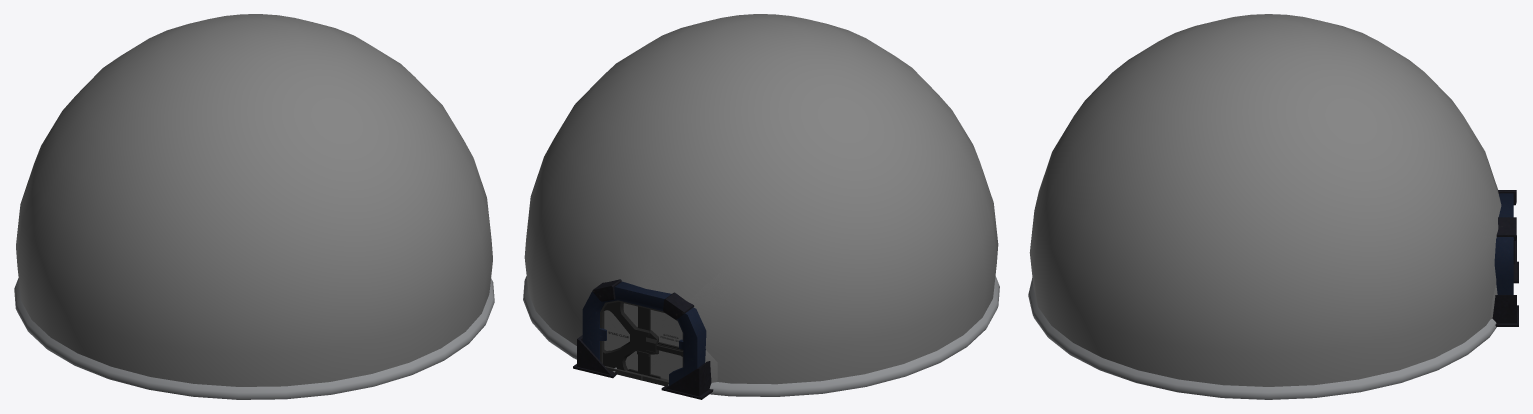
The model's file is DomeFinalMEsh.fbx.
3 renders of one model, left to right at view 1: azimuth 30°, elevation 25°; view 2: azimuth 150°, elevation 25°; view 3: azimuth 270°, elevation 25°, orthographic.
Visible parts, largest first — view 1: DoomMid-L0; view 2: DoomMid-L0, DoomMid-L1; view 3: DoomMid-L0.
Boxes of the visible parts, x1,y1,x2,y2 form: DoomMid-L0: (14,14,494,399); DoomMid-L0: (523,14,999,399); DoomMid-L1: (578,232,732,306); DoomMid-L0: (1028,14,1518,399).
Bounding box in the file's own units: 22.97 × 13.84 × 23.42.
2 materials, 1 textured.
